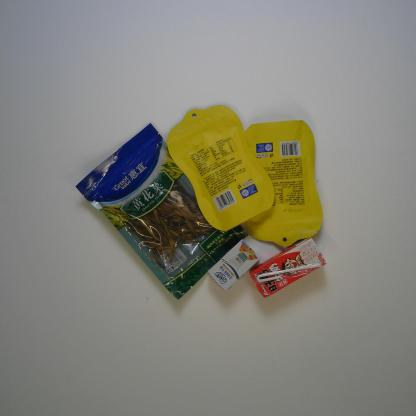Dried Food: (74, 121, 249, 300)
Dried Fruit: (166, 105, 275, 232), (242, 119, 324, 247)
Milk: (250, 236, 327, 299), (207, 238, 260, 292)
